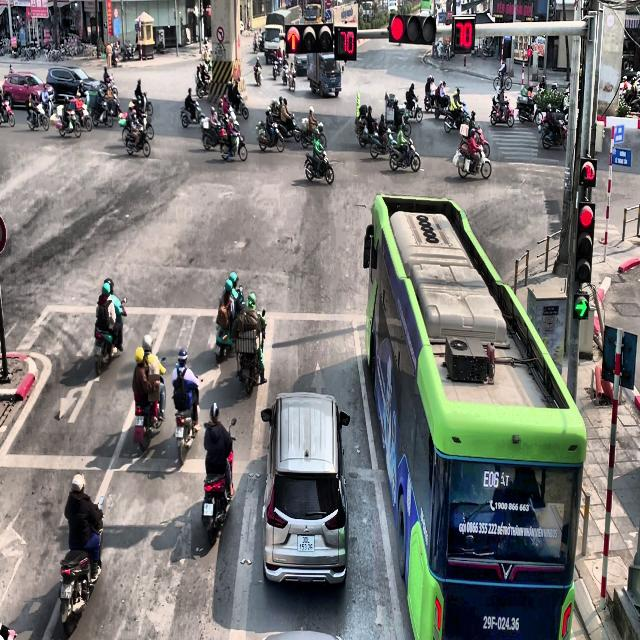BUS: (363, 193, 587, 639)
CAR: (260, 390, 350, 586), (46, 66, 104, 104), (2, 72, 54, 109)
MOTORBIKE: (59, 496, 104, 636), (202, 418, 236, 546), (133, 358, 167, 452), (234, 309, 266, 396), (94, 297, 127, 376), (174, 376, 202, 465), (214, 285, 244, 363), (456, 142, 492, 180), (122, 117, 150, 157), (304, 149, 334, 185), (390, 137, 420, 172), (256, 120, 284, 152), (220, 129, 248, 161), (56, 106, 82, 138), (26, 95, 49, 131), (274, 112, 301, 142), (70, 96, 92, 132), (300, 119, 326, 149), (444, 102, 469, 133), (490, 95, 514, 127), (370, 127, 394, 159), (542, 119, 566, 150), (180, 100, 203, 128), (92, 97, 113, 127), (228, 91, 249, 120), (358, 119, 379, 148), (518, 93, 538, 123), (0, 89, 15, 127), (404, 94, 422, 122), (493, 67, 512, 92), (135, 92, 153, 117), (434, 93, 451, 119), (195, 73, 211, 99), (355, 104, 368, 135), (424, 88, 436, 111), (287, 64, 296, 91), (271, 53, 280, 79), (253, 63, 262, 86)
TRAFFIC_LIGHT: (574, 200, 594, 284), (388, 12, 436, 44), (452, 15, 476, 52), (334, 26, 357, 60), (579, 156, 597, 186)
